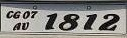character: (97, 13, 120, 31), (58, 12, 79, 31), (83, 13, 97, 30), (44, 12, 57, 30), (12, 22, 21, 31), (5, 10, 13, 19), (12, 10, 20, 19), (21, 21, 29, 30), (22, 10, 29, 19), (30, 10, 37, 18)
